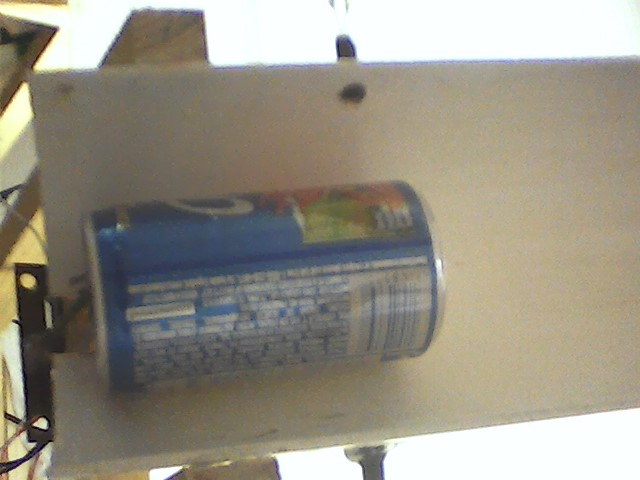lata: (71, 176, 453, 399)
